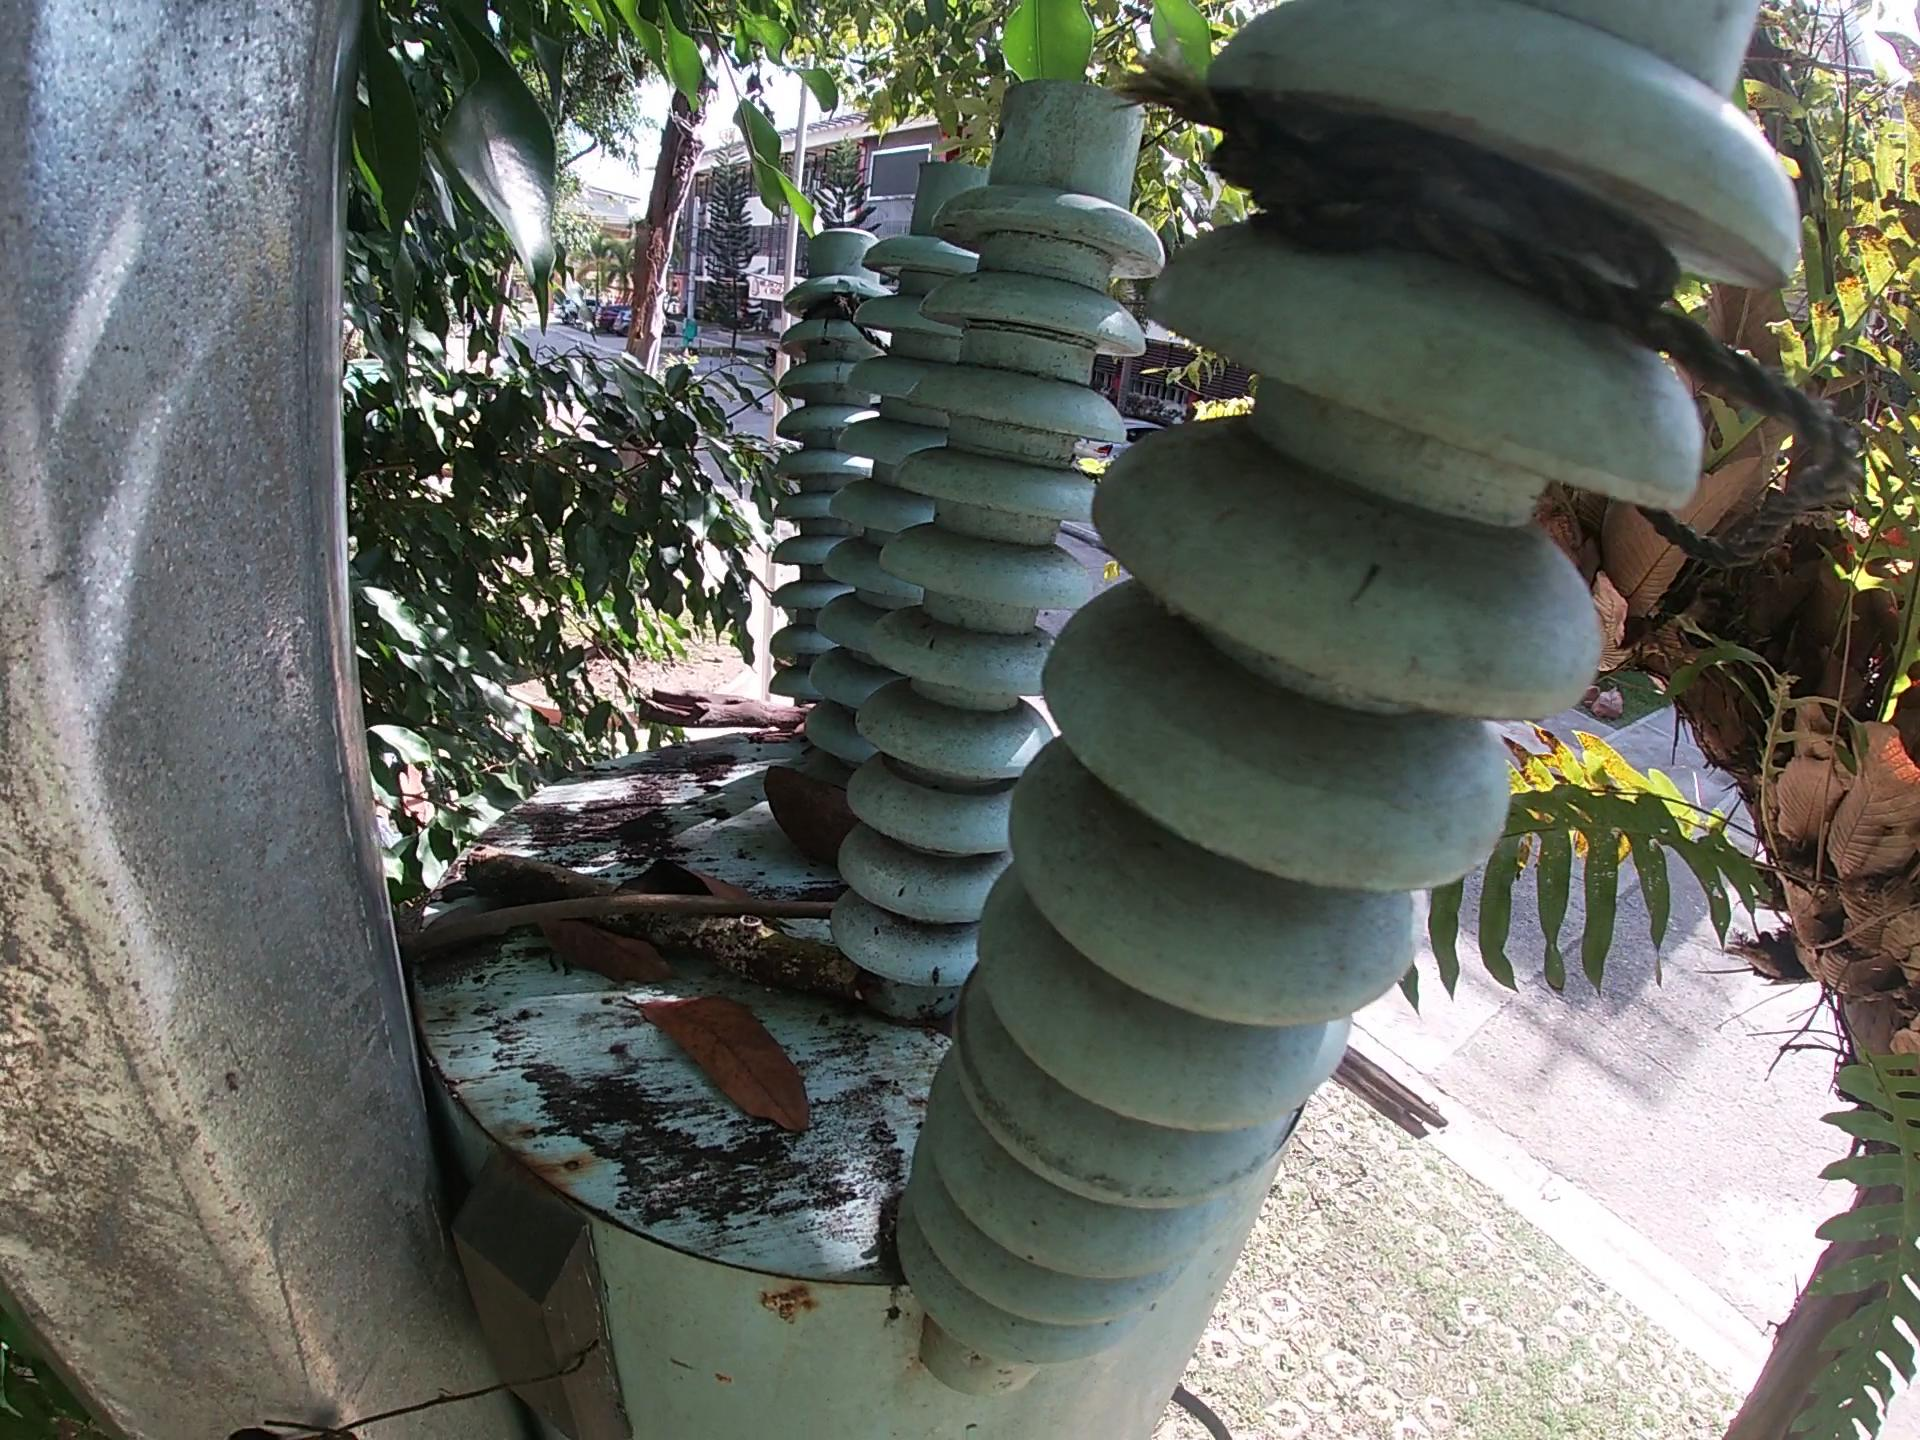leaf: (627, 994, 822, 1141), (534, 915, 680, 986), (612, 861, 759, 900)
mahogany fruit: (754, 762, 862, 864)
tree branch: (460, 852, 869, 1006), (395, 892, 844, 967), (1327, 1047, 1451, 1151), (632, 684, 813, 746)
